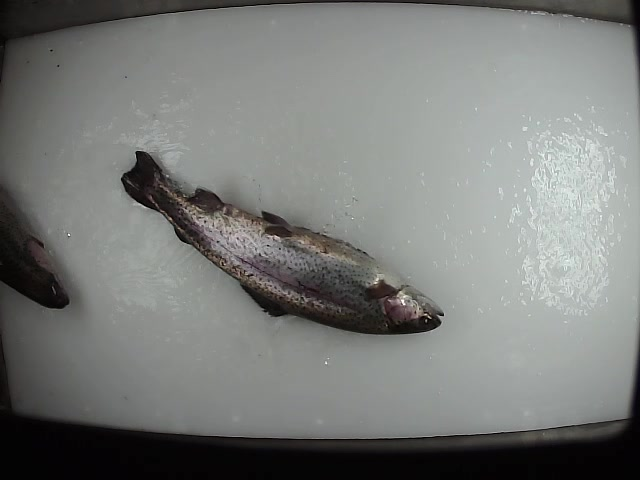fish: (120, 149, 447, 337), (1, 178, 71, 314)
